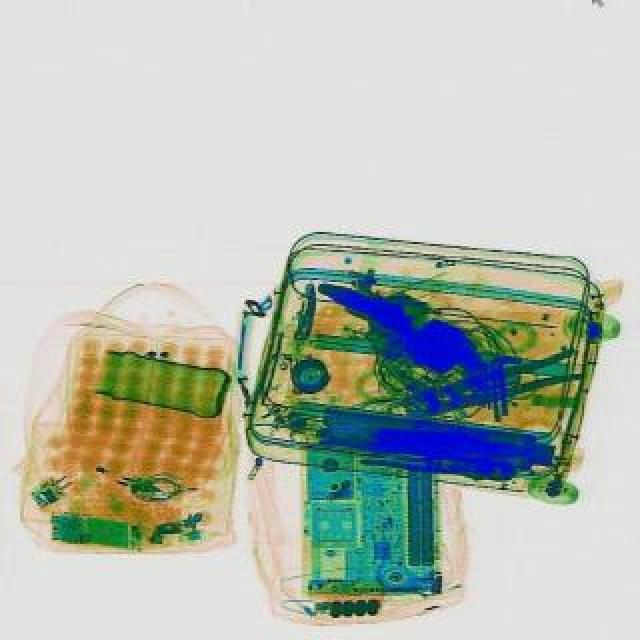wrench: (396, 346, 582, 426)
